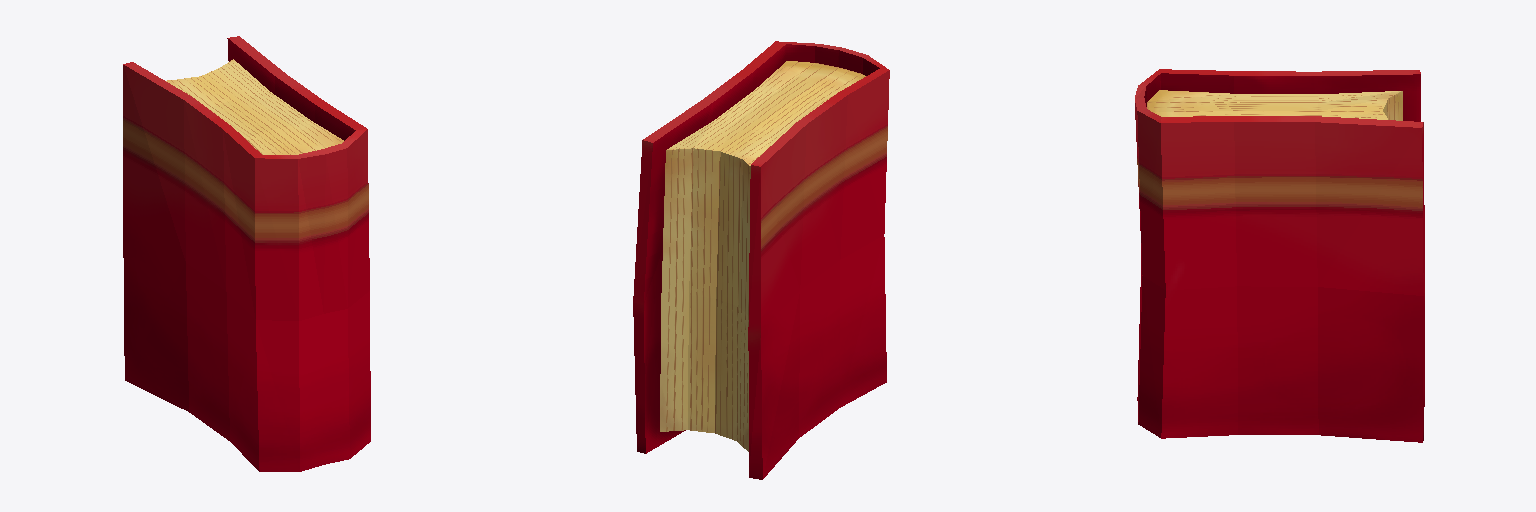
The picture shows the model from 3 angles: view 1: azimuth 30°, elevation 25°; view 2: azimuth 150°, elevation 25°; view 3: azimuth 270°, elevation 25°; orthographic projection.
Parts seen in each view (by area): view 1: Cover.001, Pages.002; view 2: Cover.001, Pages.002; view 3: Cover.001, Pages.002.
Part boxes in pixels (x1,y1,x2,y2): Cover.001: (123, 36, 370, 471); Pages.002: (166, 59, 343, 154); Cover.001: (633, 41, 889, 479); Pages.002: (660, 61, 865, 451); Cover.001: (1135, 69, 1424, 442); Pages.002: (1147, 90, 1402, 120).
Size of the model in its own units: 2.93 by 7.05 by 5.85.
Materials: 2 (2 with a texture image).